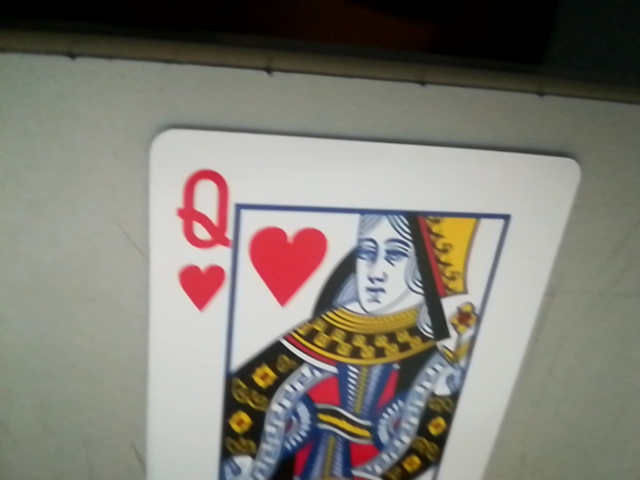hx q: (175, 170, 234, 312)
